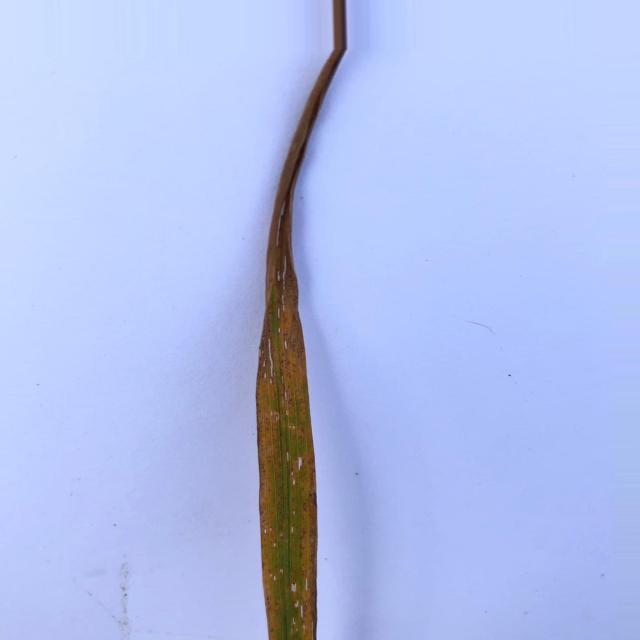Rice Tungro: (256, 0, 347, 640)
